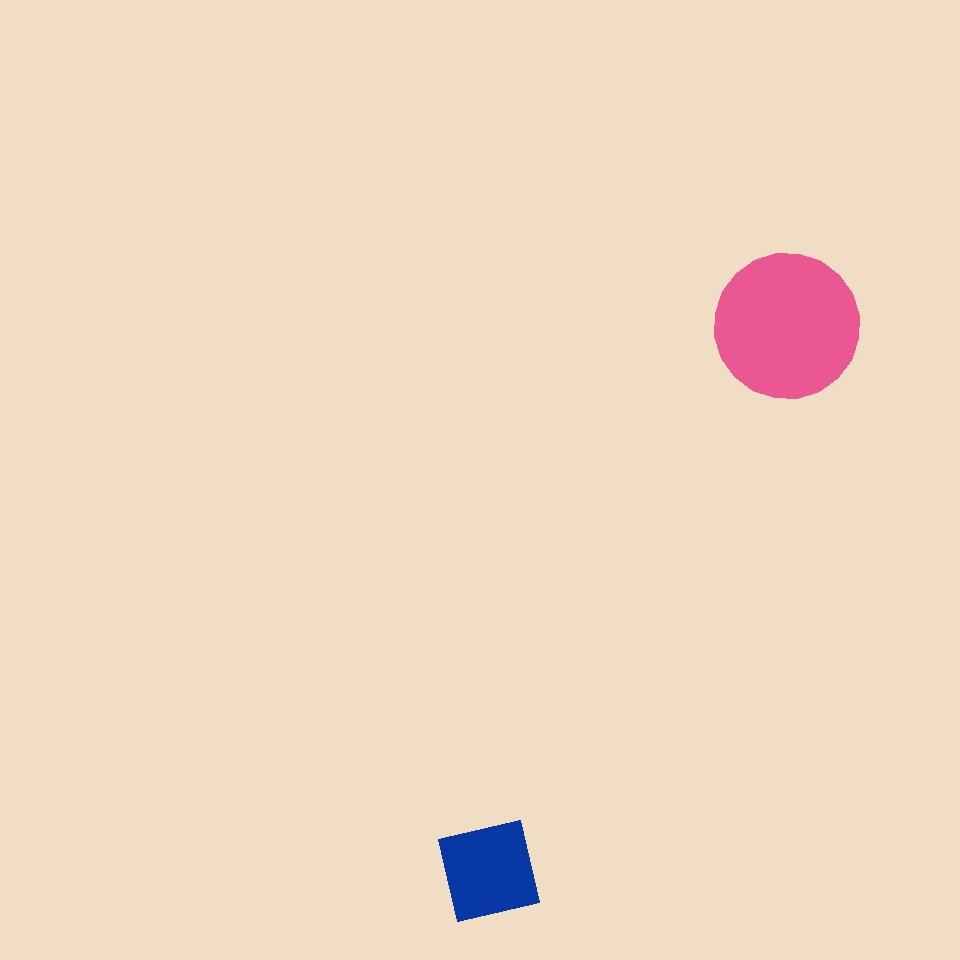circle: (260, 478, 485, 674)
square: (438, 820, 540, 922)
triangle: (494, 608, 761, 875), (714, 254, 860, 398), (204, 418, 348, 562)
